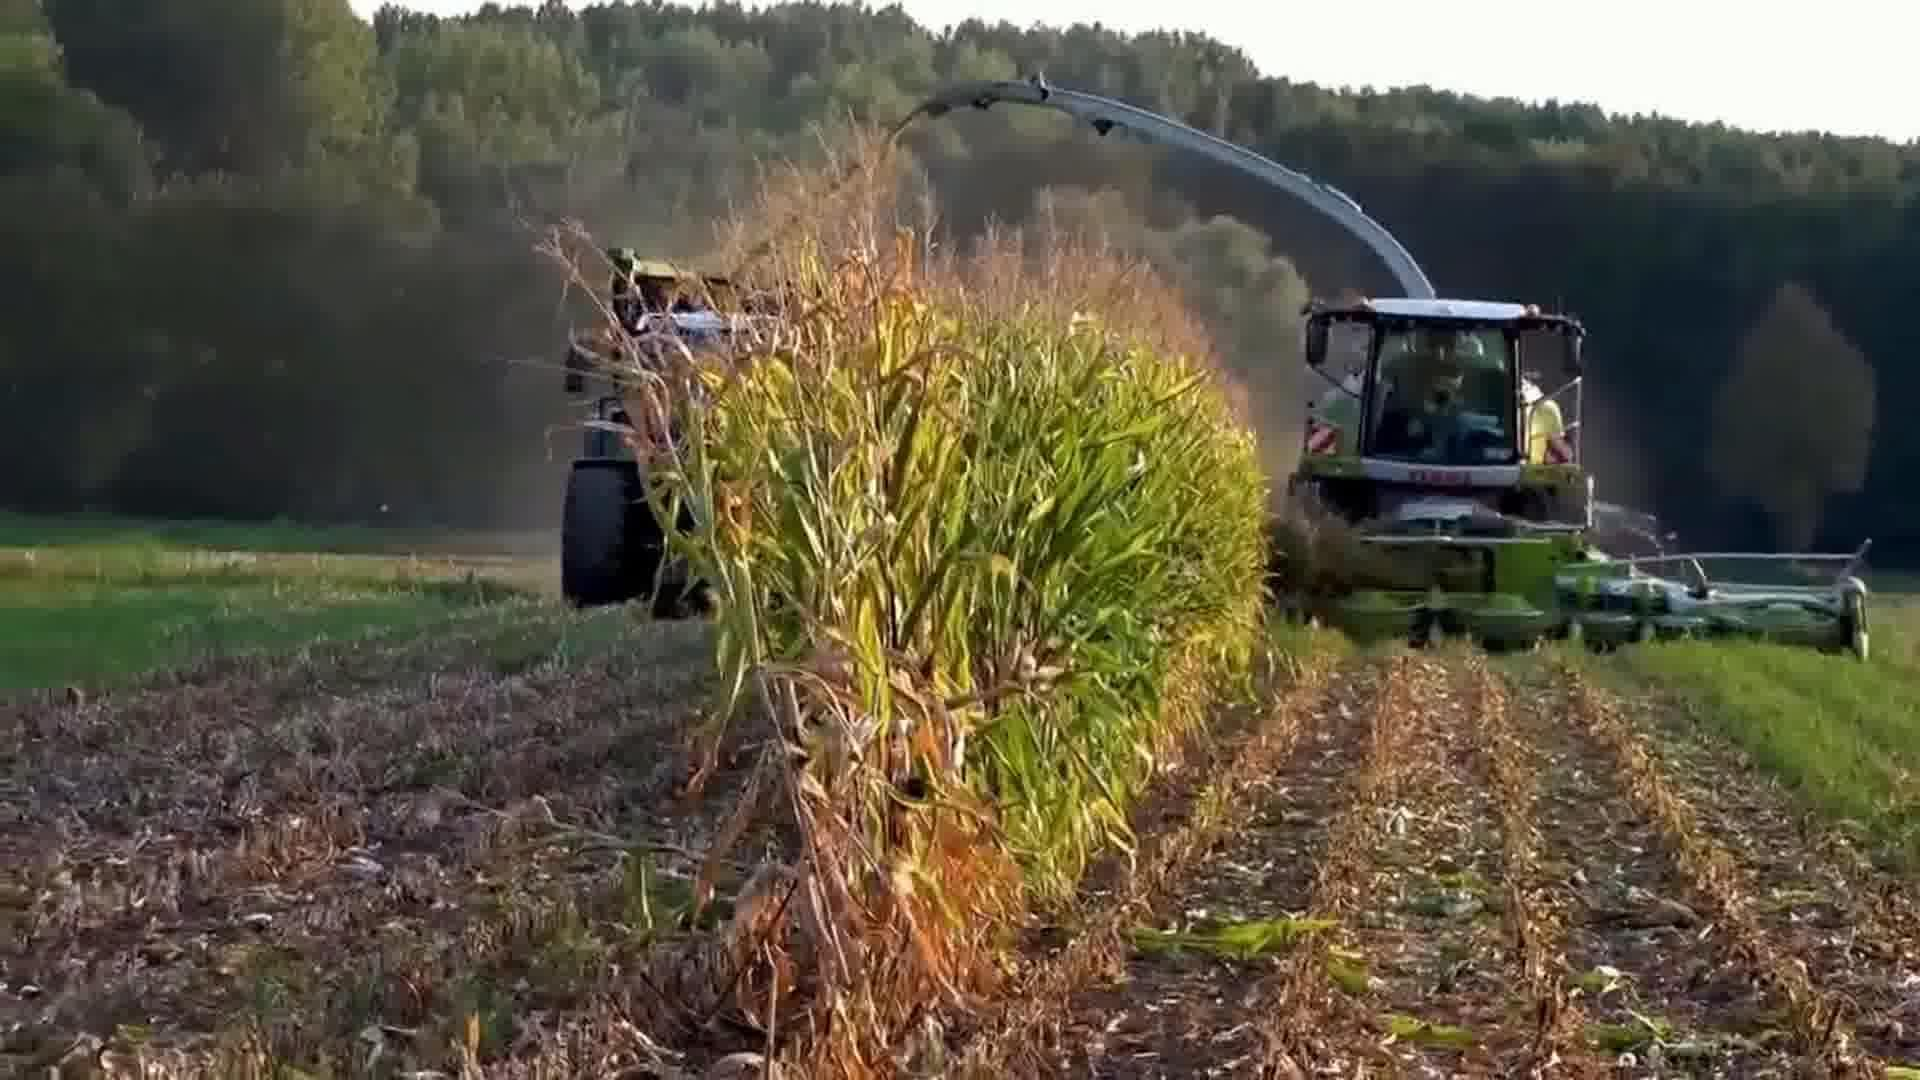combine harvester: (920, 63, 1887, 669)
tractor: (553, 244, 851, 636)
